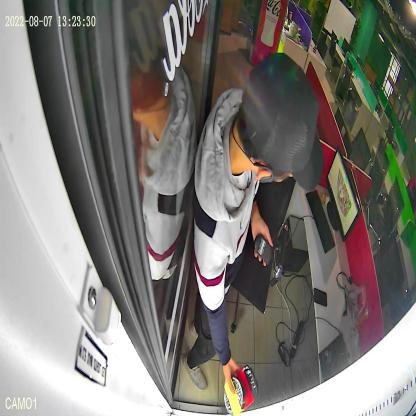red: (233, 365, 259, 411)
yellow: (224, 376, 246, 414)
